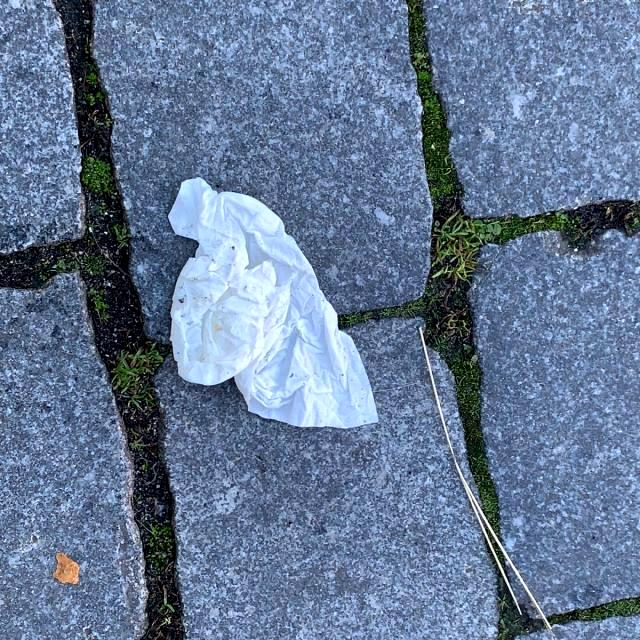Paper: (166, 176, 380, 432)
